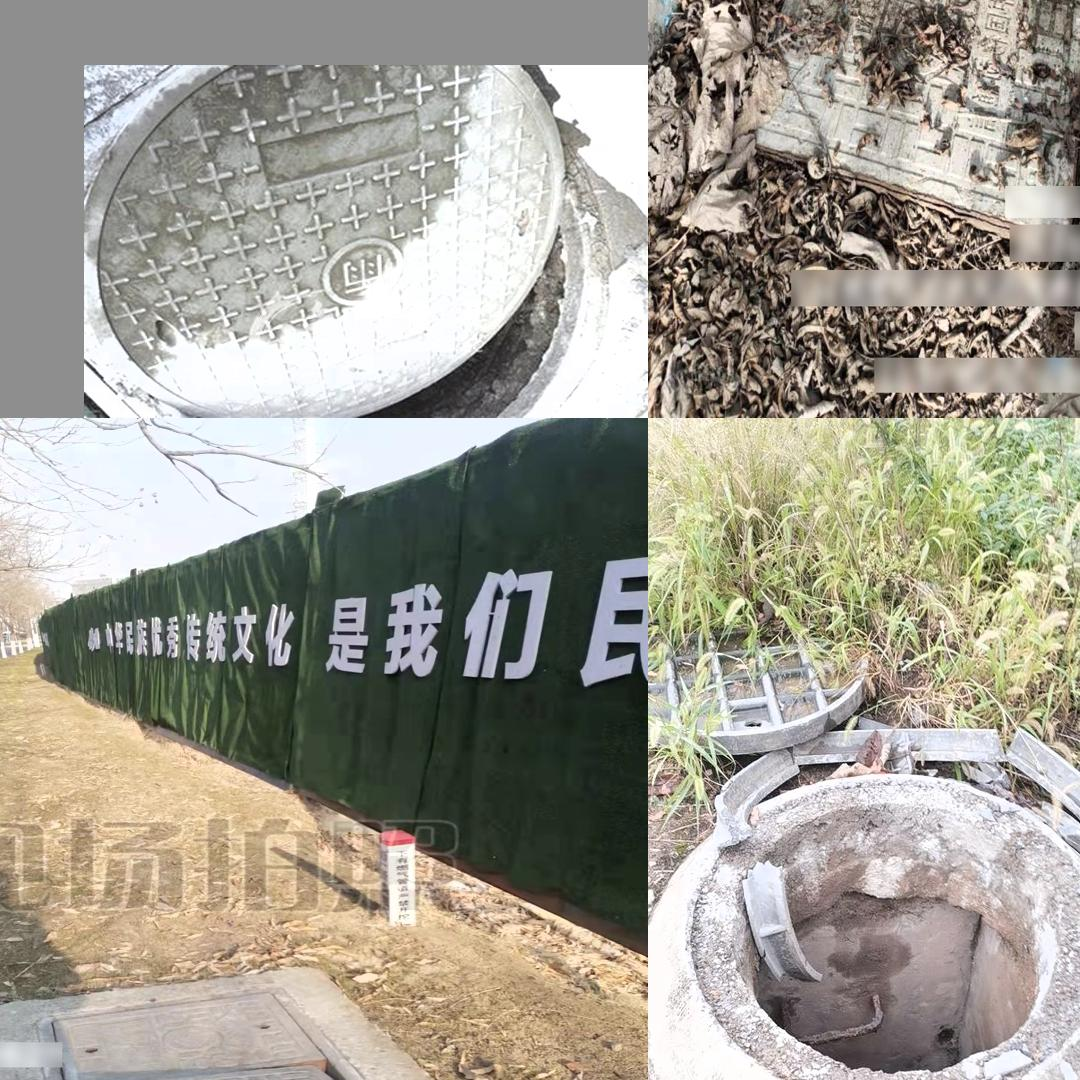uncovered: (656, 526, 1080, 1080), (95, 69, 617, 413), (747, 0, 1080, 238), (0, 987, 435, 1080)
